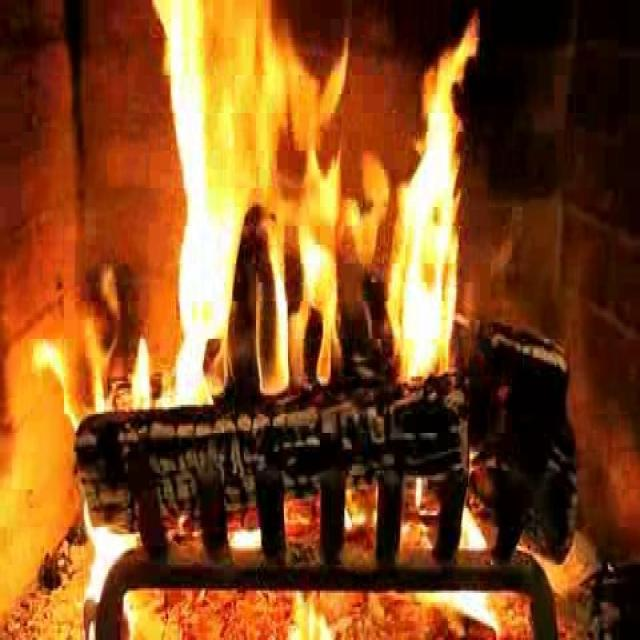Fire: (140, 2, 473, 418)
